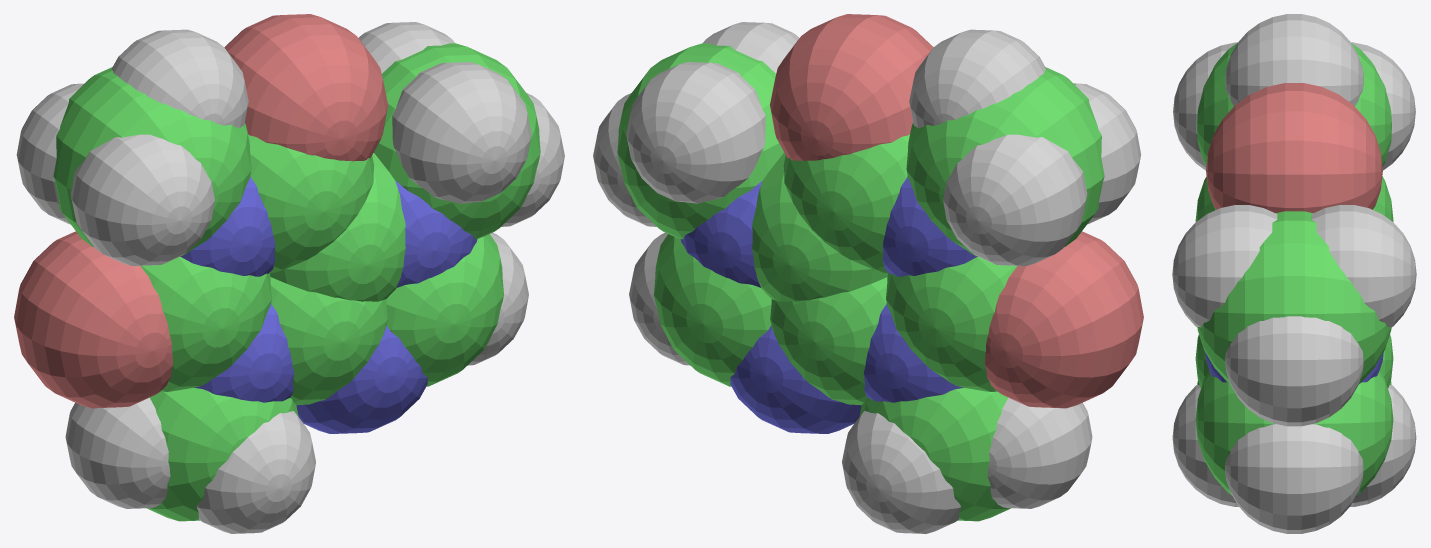
Rendered from caffeine__spheres__default.glb.
3 renders of one model, left to right at view 1: azimuth 30°, elevation 25°; view 2: azimuth 150°, elevation 25°; view 3: azimuth 270°, elevation 25°, orthographic. The views are drawn at different scales.
Parts seen in each view (by area): view 1: Renderer Node; view 2: Renderer Node; view 3: Renderer Node.
Boxes of the visible parts, x1=… form: Renderer Node: x1=14, y1=14, x2=564, y2=533; Renderer Node: x1=593, y1=14, x2=1143, y2=533; Renderer Node: x1=1172, y1=14, x2=1416, y2=533.
Size of the model in its own units: 10.03 by 8.75 by 4.2.
